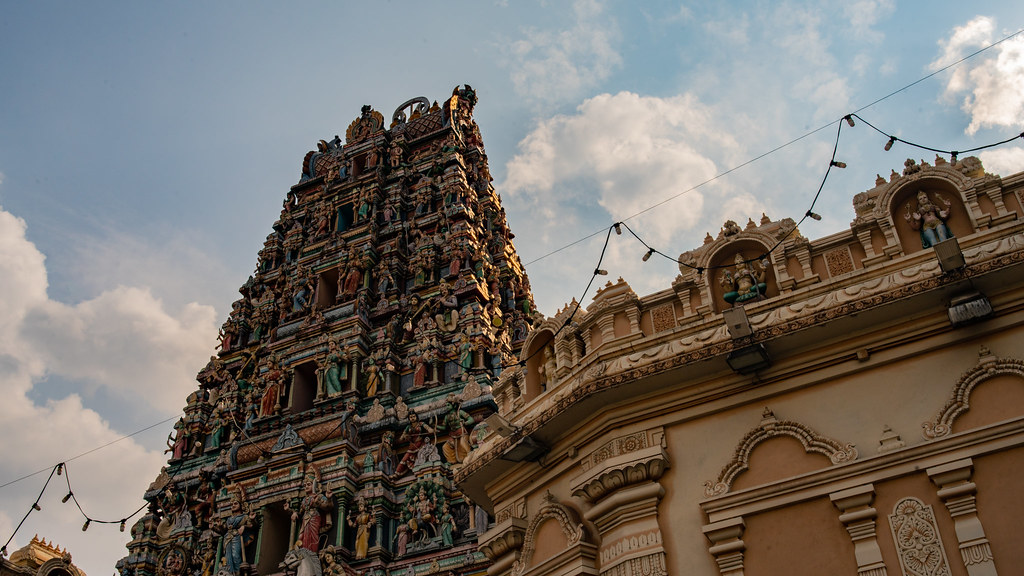Hindu Temple: (155, 98, 1024, 551)
